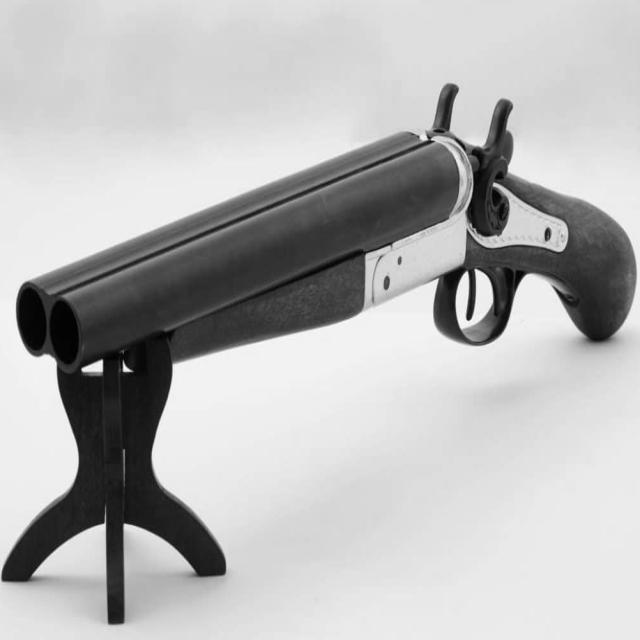Weapon: (17, 84, 636, 371)
